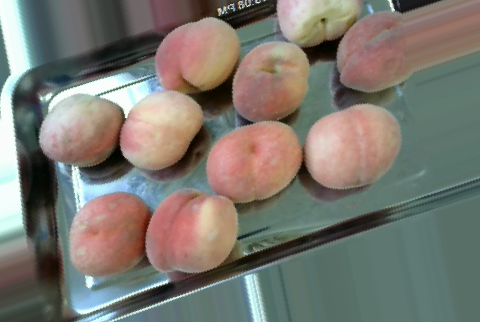Peach: (303, 104, 401, 187), (143, 190, 238, 274), (205, 118, 298, 202), (64, 189, 153, 275), (333, 12, 424, 91), (120, 91, 206, 169), (231, 37, 309, 122), (155, 15, 239, 93), (39, 92, 126, 167), (273, 0, 363, 46)
